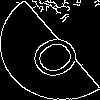O: (25, 25, 93, 84)
